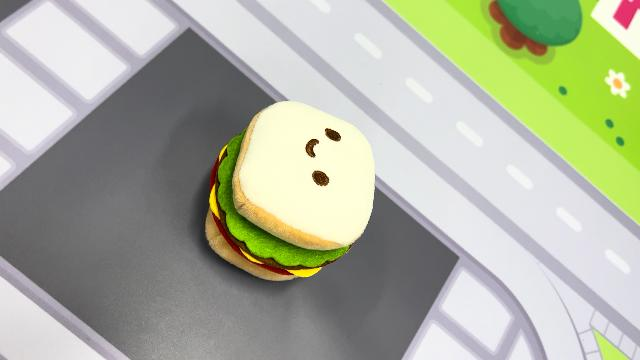sandwich: (202, 98, 378, 282)
